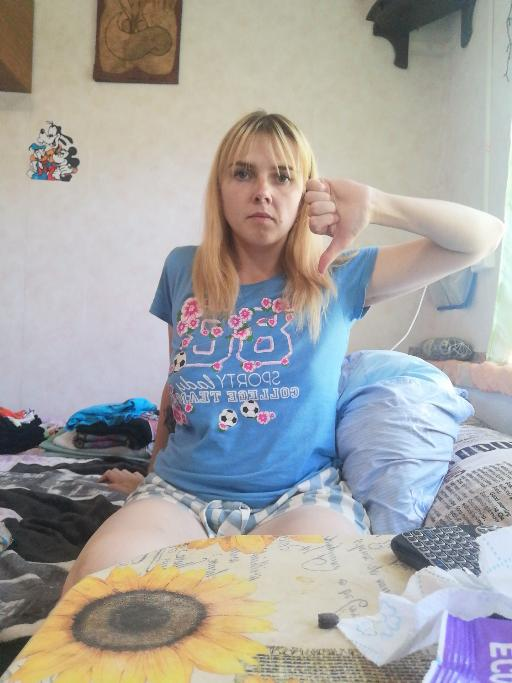dislike: (301, 172, 372, 277)
